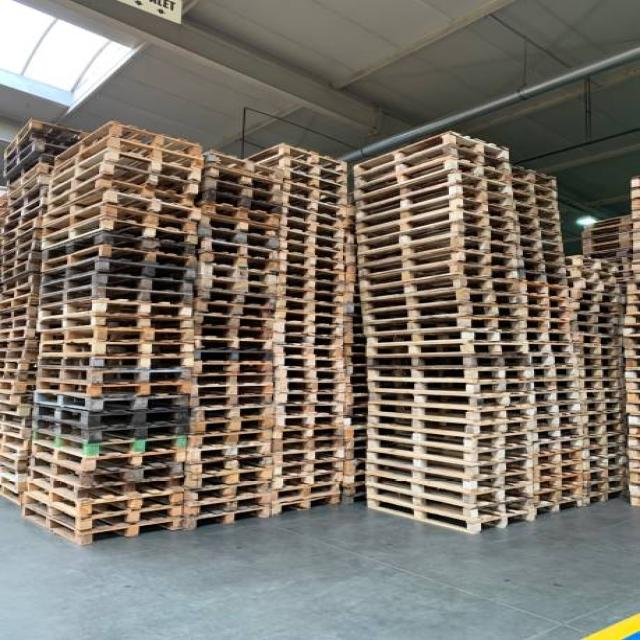Wooden-Pallets: (347, 127, 530, 184), (349, 492, 540, 544), (355, 333, 528, 373), (70, 509, 181, 559), (108, 117, 201, 166), (86, 336, 189, 362), (261, 309, 347, 335)
